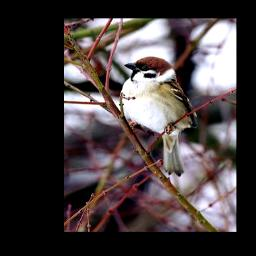Sparrow: (119, 56, 199, 175)
